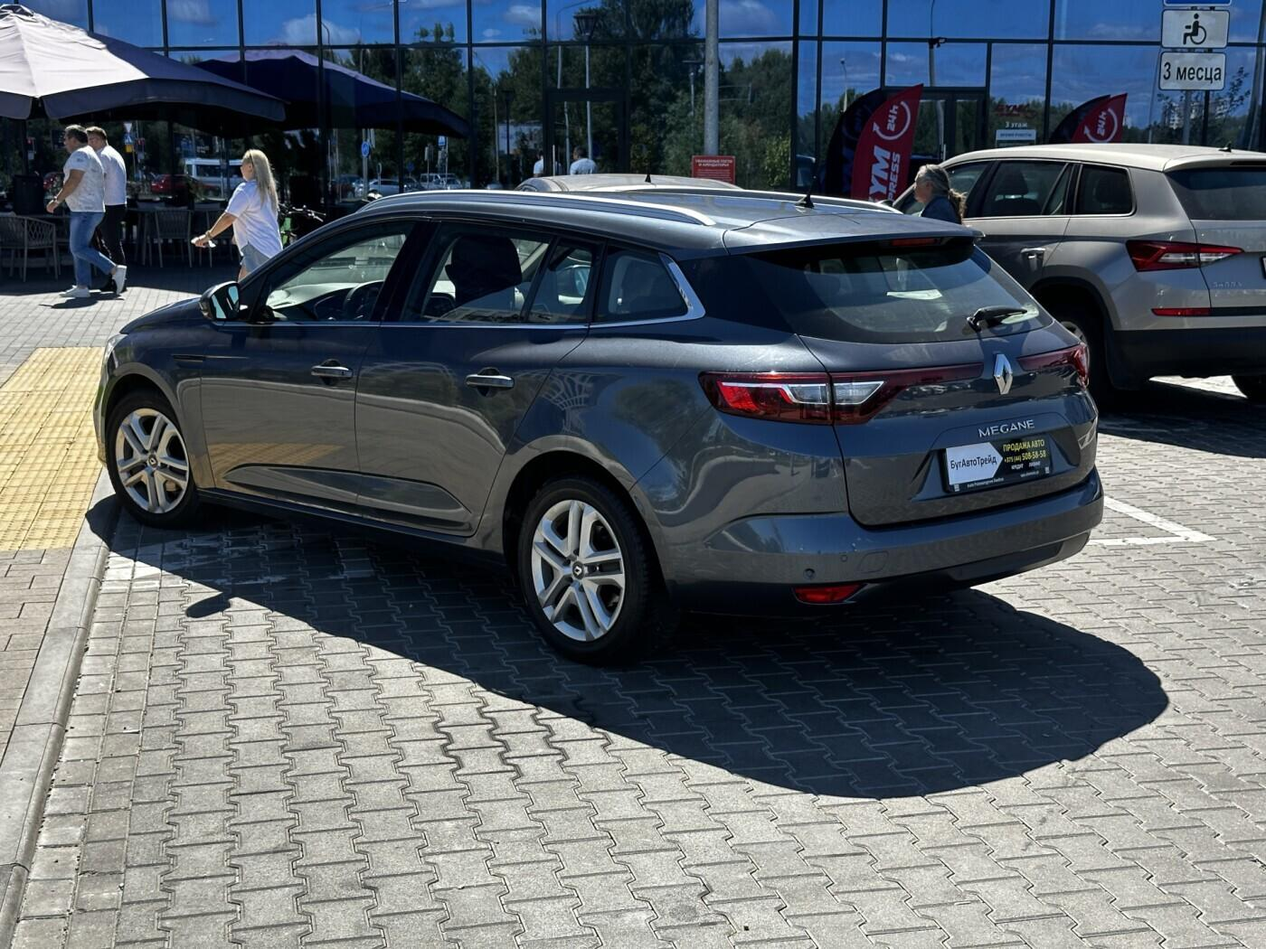Megane_2016-2020: (92, 178, 1103, 634)
